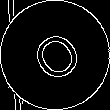O_SE: (22, 22, 88, 88)
